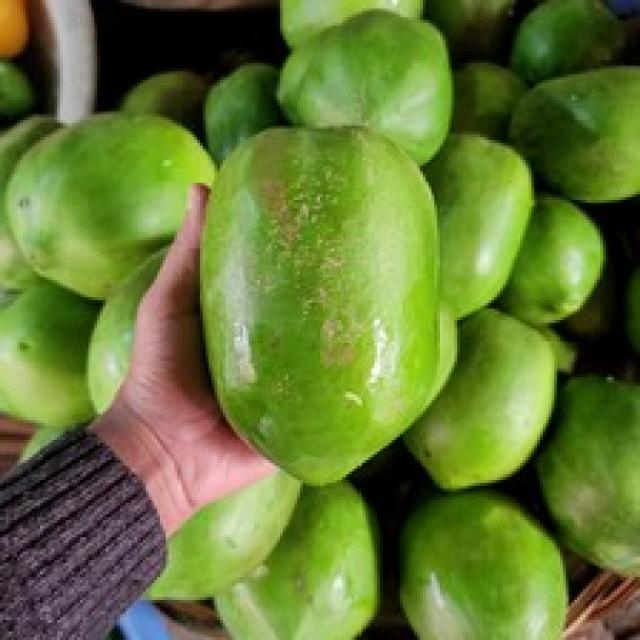Pepaya unrippen: (197, 116, 442, 490)
